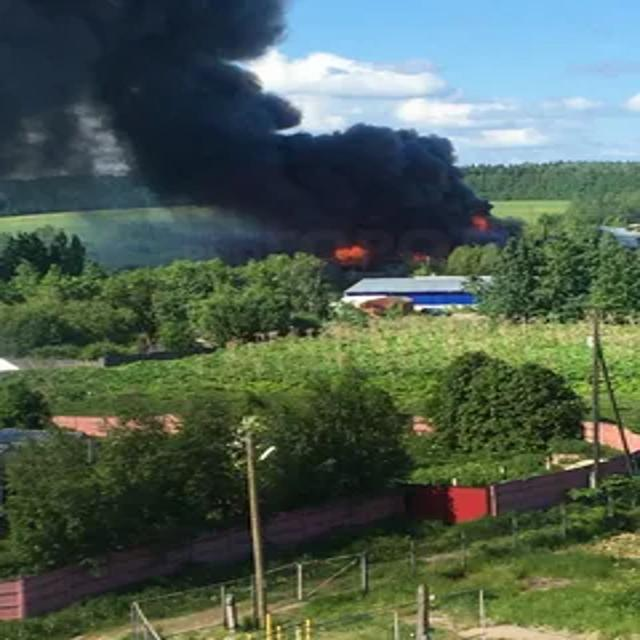Smoke: (0, 0, 530, 282)
